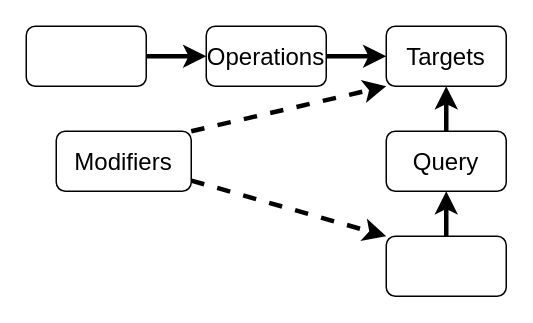
Image size: 533x323. Some labels were removed from this diagram. The shapes that lost their labels are listed below. From the top down, each one's centre as x and y in pixels, then its label:
At [85,55]: "Scope".
At [445,265]: "Log F()".
